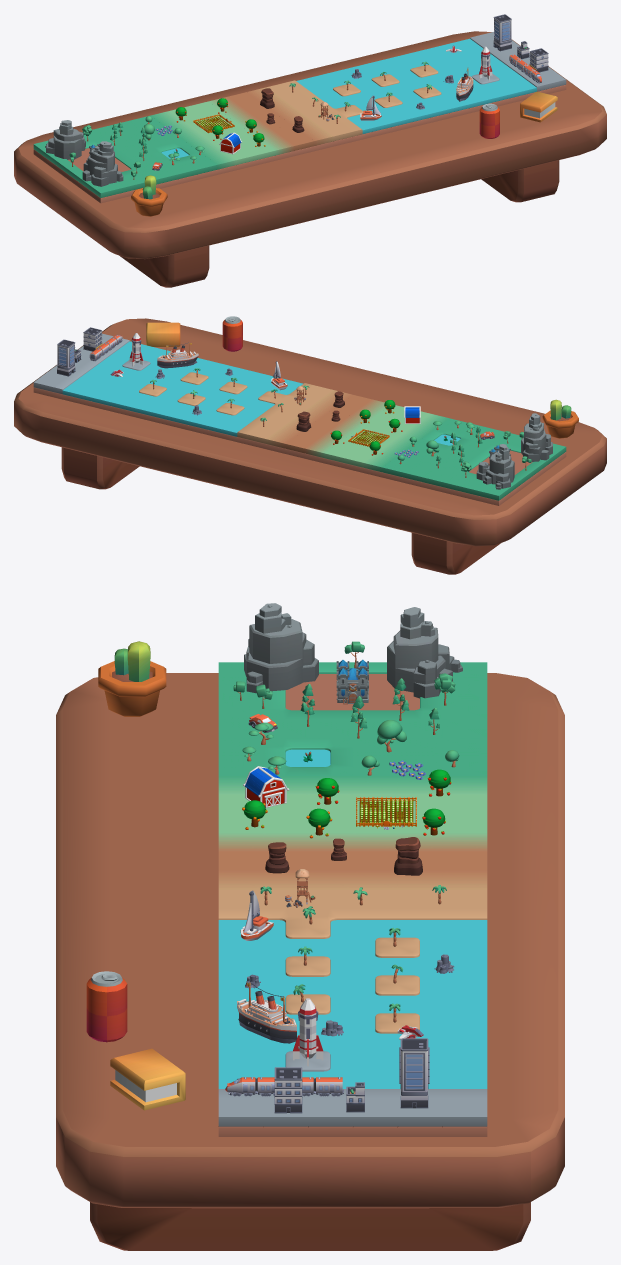
File: PortfolioPreview-transformed.glb
3 views of the same model, one above another, from view 1: azimuth 30°, elevation 25°; view 2: azimuth 150°, elevation 25°; view 3: azimuth 270°, elevation 25° (orthographic). The views are drawn at different scales.
Parts seen in each view (by area): view 1: table_low, square_forest_detail_(-3, 0, -12), Rock_1_J_Color1, cactus_small_B, Farm_House_Barn_01, square_forestToPlain_detail_(2, 0, -6), building-skyscraper-a, square_plainToRock_detail_(2, 0, -3), square_rockToSand_detail_(2, 0, -1), ship-ocean-liner-small, Can_B, palm-detailed-straight (+1 smaller); view 2: table_low, square_forest_detail_(-3, 0, -12), Rock_1_J_Color1, cactus_small_B, square_forestToPlain_detail_(2, 0, -6), Farm_House_Barn_01, square_plainToRock_detail_(2, 0, -3), square_rockToSand_detail_(2, 0, -1), building-skyscraper-a, ship-ocean-liner-small, Can_B, palm-detailed-straight (+2 smaller); view 3: table_low, square_forest_detail_(-3, 0, -12), Rock_1_J_Color1, cactus_small_B, Farm_House_Barn_01, square_rockToSand_detail_(2, 0, -1), square_plainToRock_detail_(2, 0, -3), building-skyscraper-a, square_forestToPlain_detail_(2, 0, -6), ship-ocean-liner-small, Can_B, palm-detailed-straight (+3 smaller).
Boxes of the visible parts, x1=… form: table_low: x1=14, y1=31, x2=606, y2=287; square_forest_detail_(-3, 0, -12): x1=33, y1=32, x2=566, y2=203; Rock_1_J_Color1: x1=45, y1=116, x2=204, y2=186; cactus_small_B: x1=131, y1=91, x2=557, y2=216; Farm_House_Barn_01: x1=175, y1=98, x2=265, y2=154; square_forestToPlain_detail_(2, 0, -6): x1=150, y1=111, x2=236, y2=169; building-skyscraper-a: x1=493, y1=14, x2=548, y2=72; square_plainToRock_detail_(2, 0, -3): x1=208, y1=97, x2=294, y2=155; square_rockToSand_detail_(2, 0, -1): x1=247, y1=87, x2=333, y2=145; ship-ocean-liner-small: x1=360, y1=67, x2=473, y2=120; Can_B: x1=479, y1=103, x2=499, y2=138; palm-detailed-straight: x1=289, y1=61, x2=453, y2=123; table_low: x1=14, y1=318, x2=606, y2=574; square_forest_detail_(-3, 0, -12): x1=33, y1=333, x2=566, y2=505; Rock_1_J_Color1: x1=397, y1=413, x2=552, y2=489; cactus_small_B: x1=146, y1=322, x2=578, y2=438; square_forestToPlain_detail_(2, 0, -6): x1=363, y1=413, x2=449, y2=472; Farm_House_Barn_01: x1=330, y1=400, x2=420, y2=455; square_plainToRock_detail_(2, 0, -3): x1=305, y1=399, x2=385, y2=458; square_rockToSand_detail_(2, 0, -1): x1=266, y1=390, x2=352, y2=448; building-skyscraper-a: x1=57, y1=327, x2=102, y2=376; ship-ocean-liner-small: x1=157, y1=342, x2=287, y2=390; Can_B: x1=222, y1=316, x2=242, y2=351; palm-detailed-straight: x1=150, y1=368, x2=309, y2=426; table_low: x1=56, y1=673, x2=564, y2=1250; square_forest_detail_(-3, 0, -12): x1=218, y1=662, x2=487, y2=1136; Rock_1_J_Color1: x1=233, y1=603, x2=462, y2=775; cactus_small_B: x1=98, y1=641, x2=185, y2=1110; Farm_House_Barn_01: x1=242, y1=766, x2=451, y2=838; square_rockToSand_detail_(2, 0, -1): x1=218, y1=870, x2=487, y2=889; square_plainToRock_detail_(2, 0, -3): x1=218, y1=833, x2=487, y2=851; building-skyscraper-a: x1=274, y1=1038, x2=429, y2=1113; square_forestToPlain_detail_(2, 0, -6): x1=218, y1=776, x2=487, y2=794; ship-ocean-liner-small: x1=237, y1=890, x2=296, y2=1043; Can_B: x1=86, y1=971, x2=127, y2=1042; palm-detailed-straight: x1=245, y1=869, x2=454, y2=1036.
Size of the model in its own units: 16.8 by 4.03 by 7.5.
Materials: 19 (19 with a texture image).
